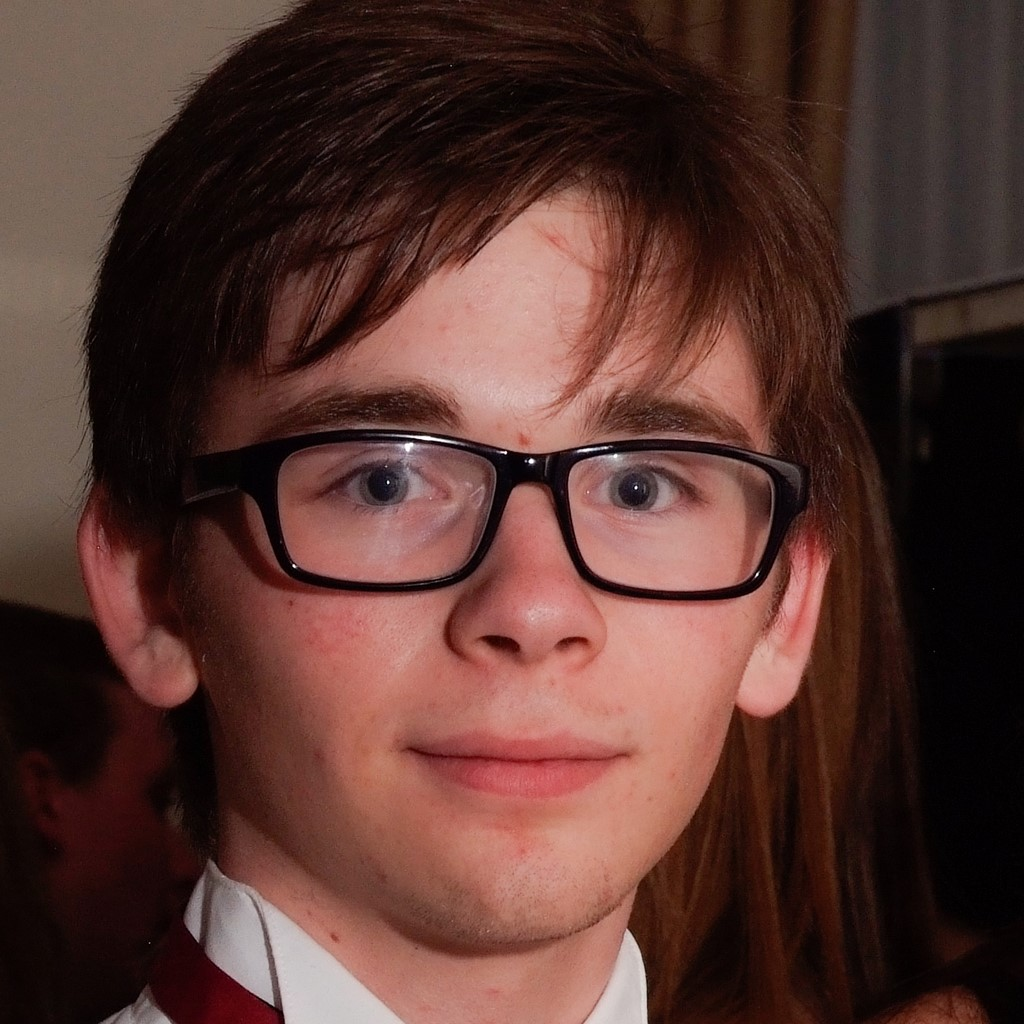sin_mascara: (178, 122, 797, 939)
